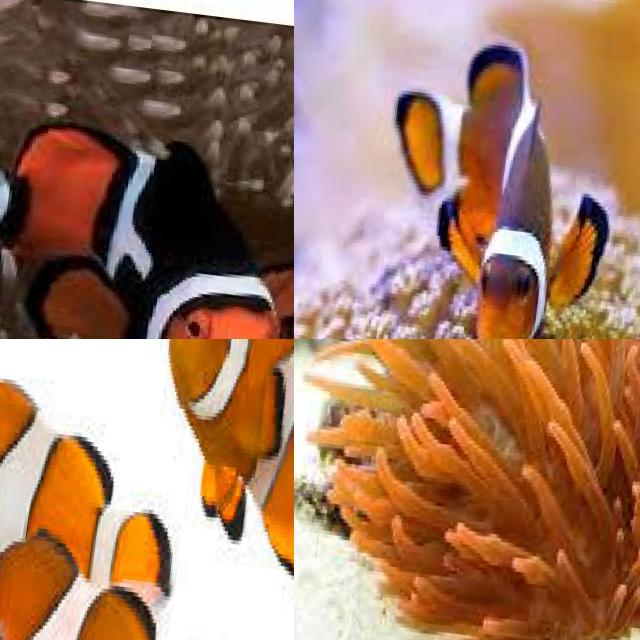Amphiprion-percula: (329, 0, 640, 339), (0, 67, 294, 339), (0, 339, 197, 640), (121, 339, 294, 640), (0, 530, 273, 640), (480, 339, 640, 492)
